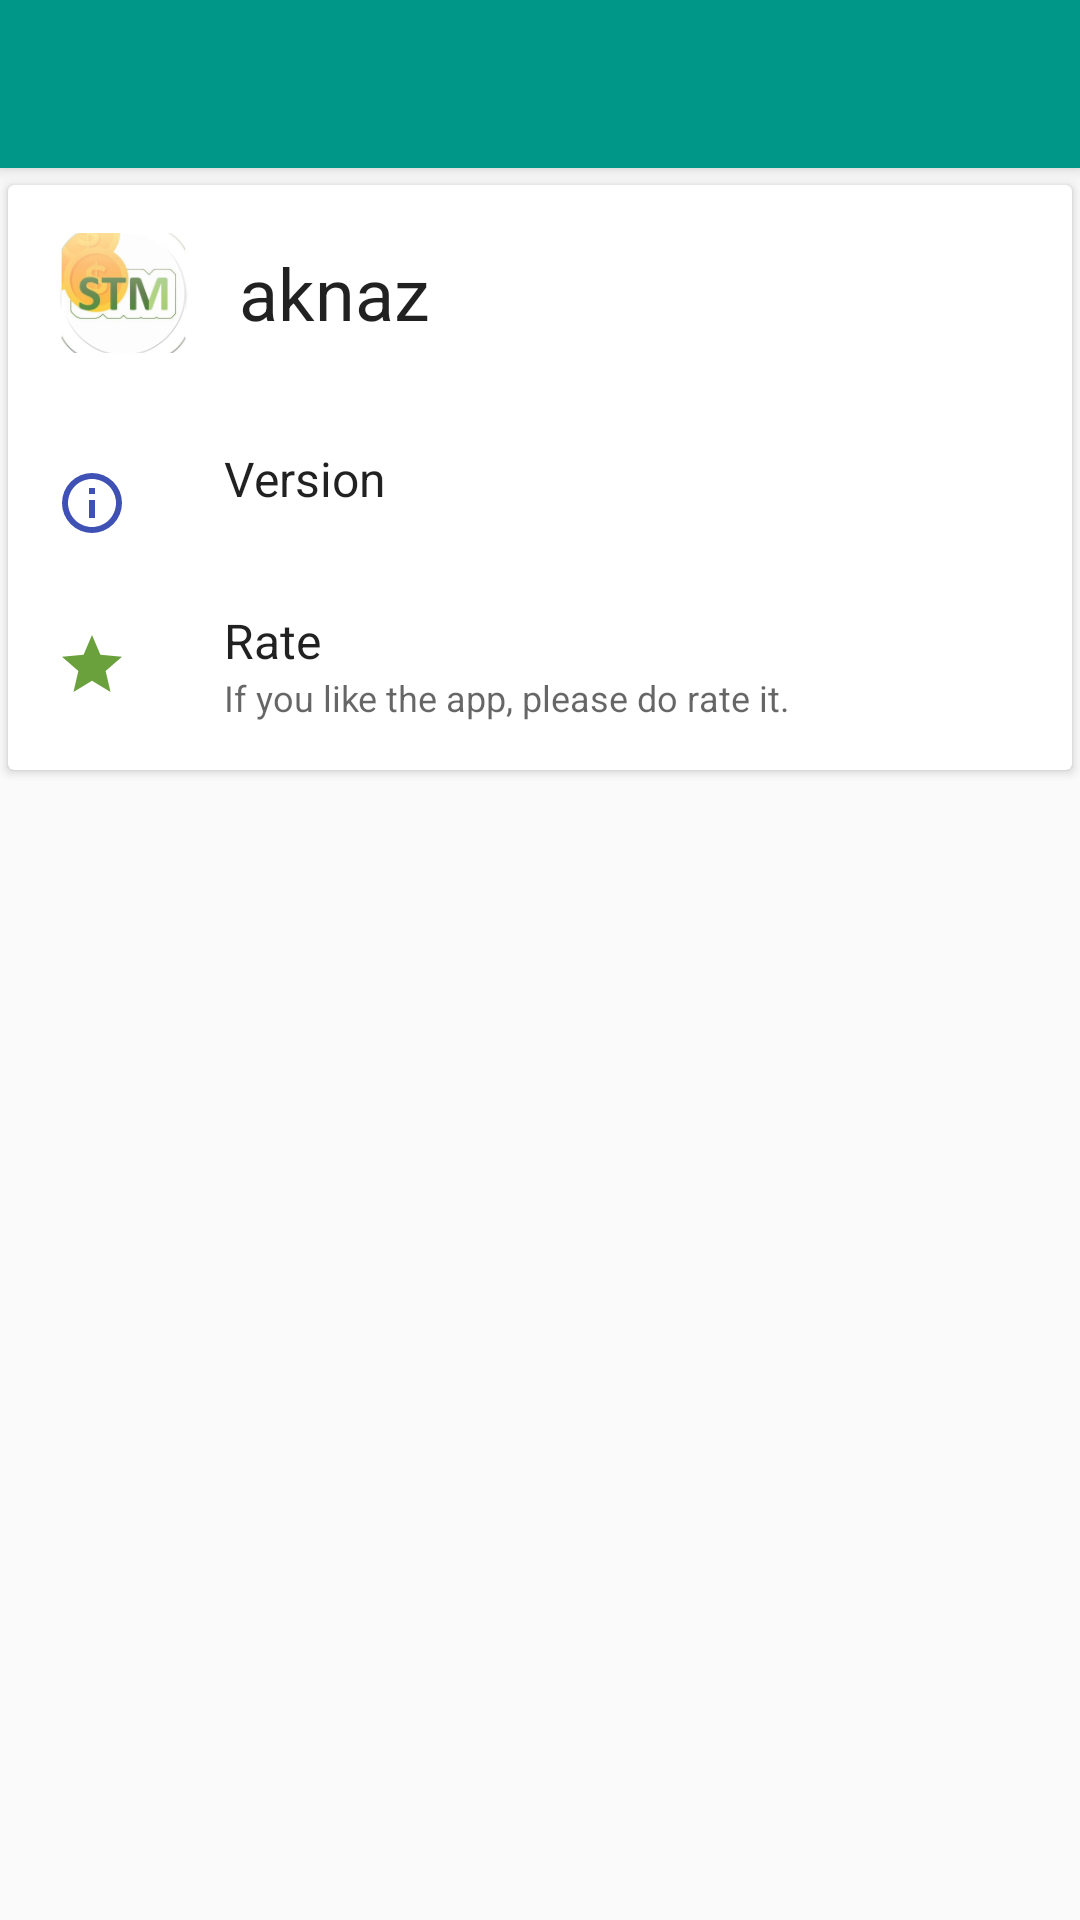

Named icons in this screenshot (1080 x 1920) and their centers, (x,y):
information: (92,503)
star: (92,663)
